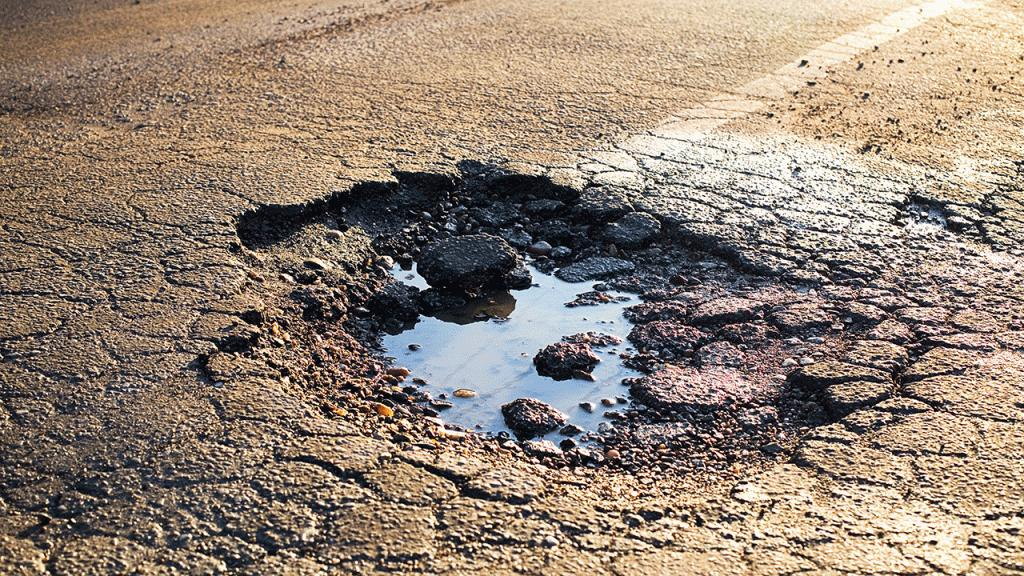Pothole: (211, 135, 877, 542)
